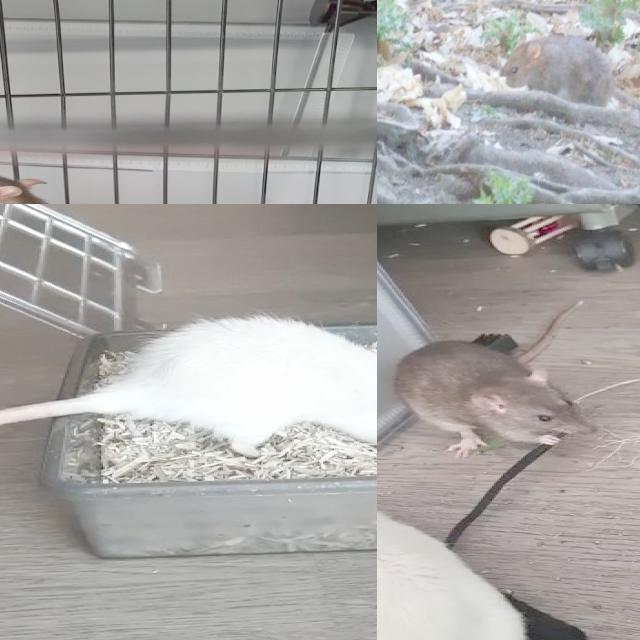rat: (109, 312, 377, 461), (377, 500, 561, 640), (391, 341, 601, 458), (501, 31, 614, 110)
